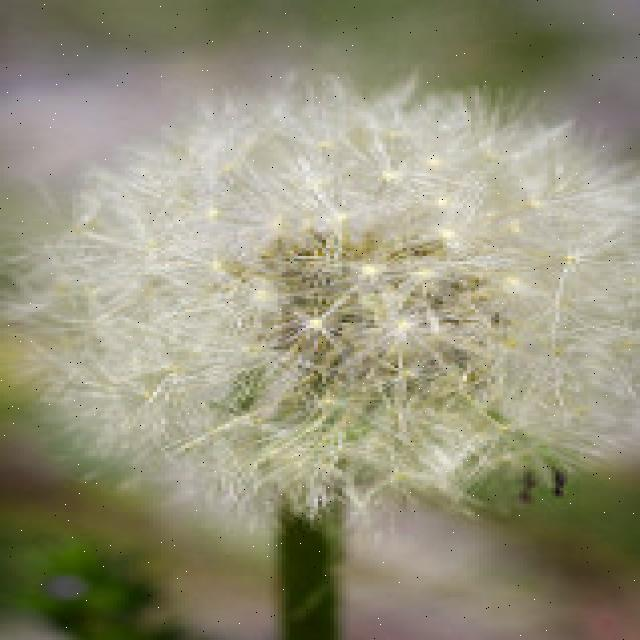Bloomed: (0, 69, 636, 531)
